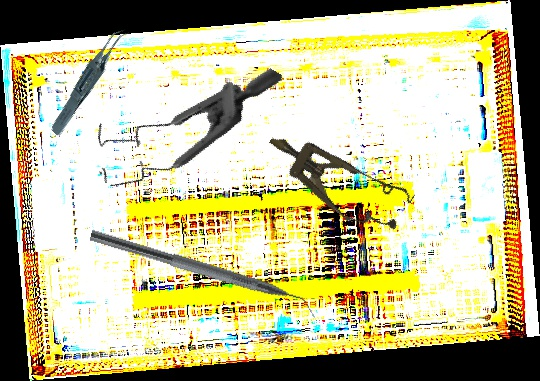Chopper: (84, 229, 322, 323)
Speculum: (75, 7, 284, 234), (255, 114, 417, 244)
Tissue Forceps: (32, 25, 149, 138)
